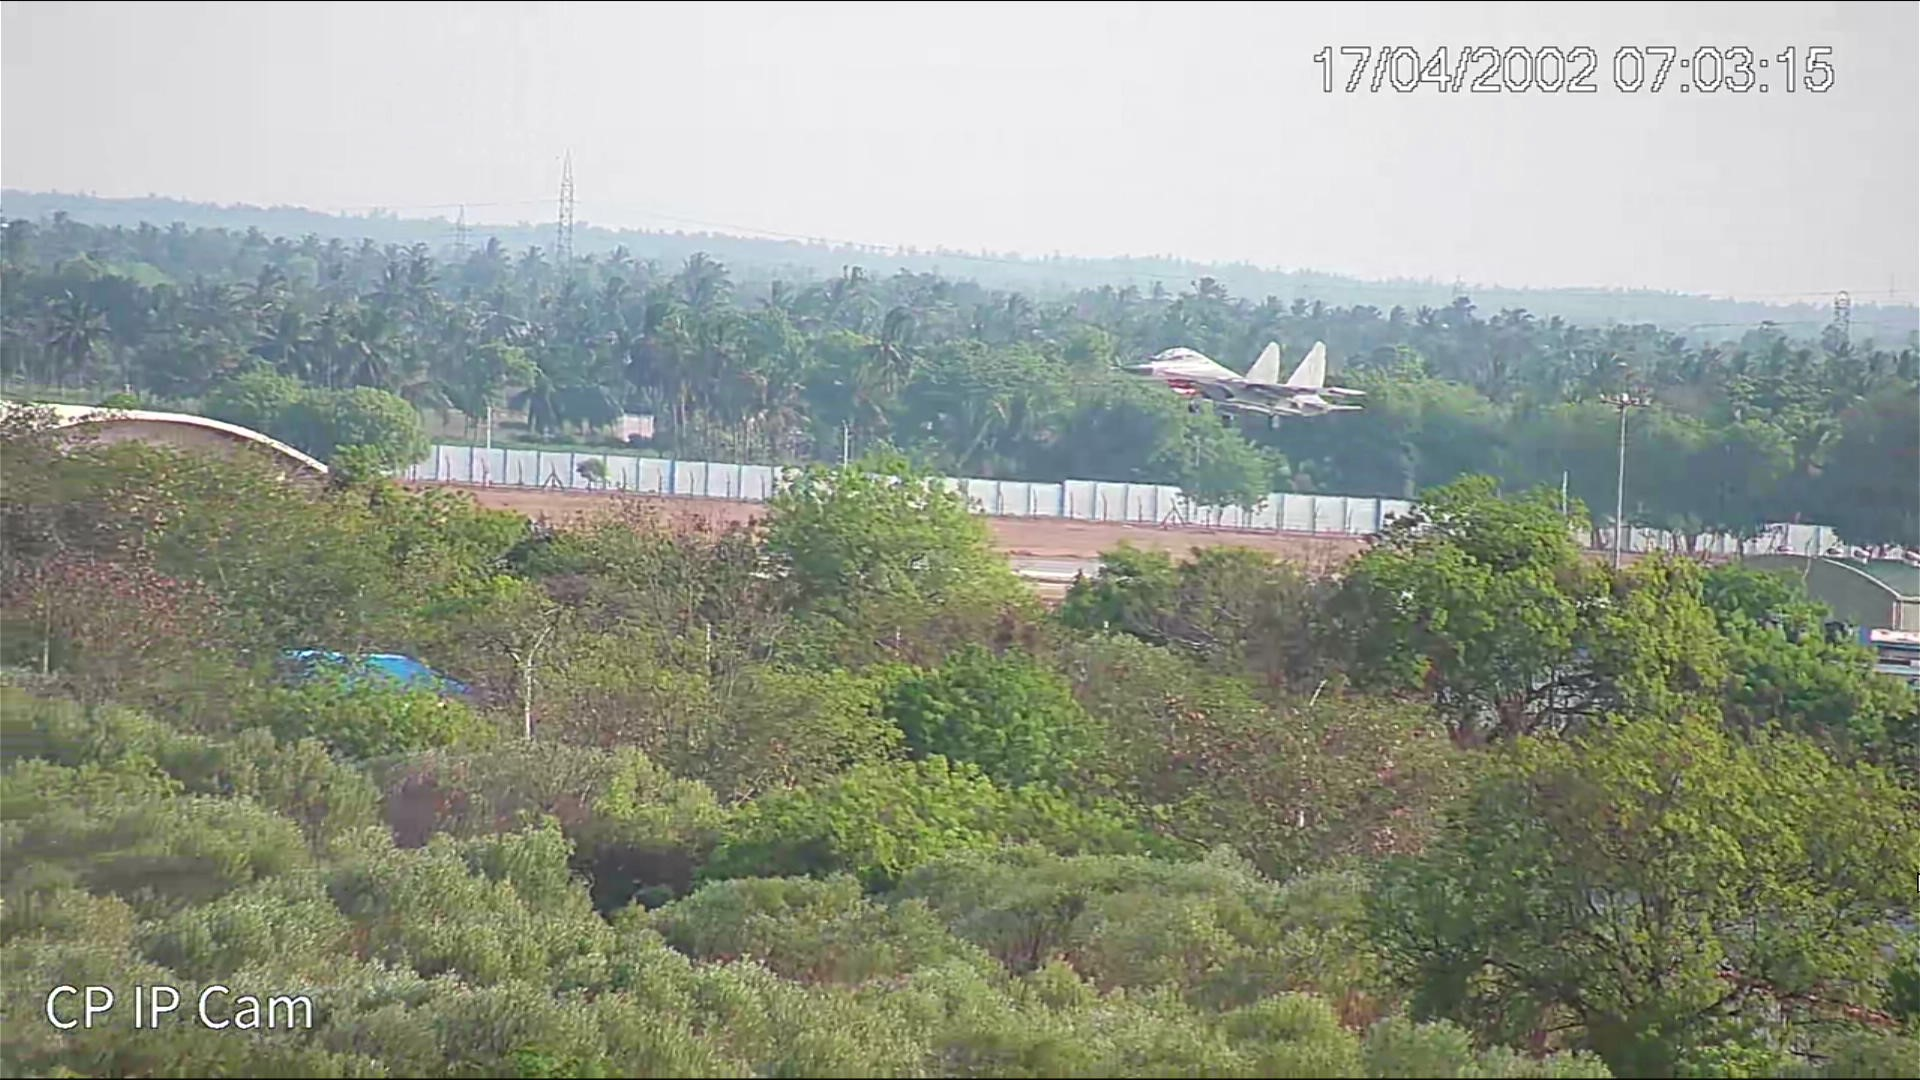SU_30: (1127, 336, 1360, 429)
